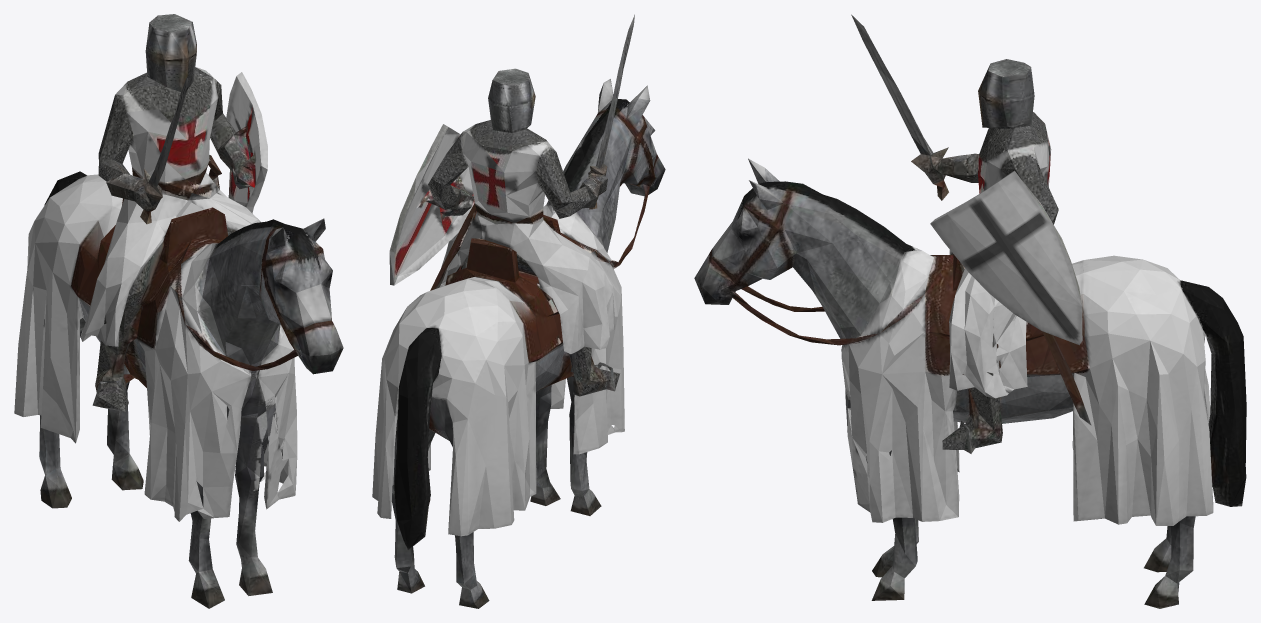
Rendered from crusader.glb.
3 views of the same model, side by side, from view 1: azimuth 30°, elevation 25°; view 2: azimuth 150°, elevation 25°; view 3: azimuth 270°, elevation 25° (orthographic). The views are drawn at different scales.
Parts seen in each view (by area): view 1: crusader; view 2: crusader; view 3: crusader.
Part boxes in pixels (<box>): crusader: <box>14,14,343,608</box>; crusader: <box>372,14,665,608</box>; crusader: <box>694,14,1246,608</box>.
Bounding box in the file's own units: 0.9825 × 2.6 × 2.39.
Materials: 2 (2 with a texture image).
